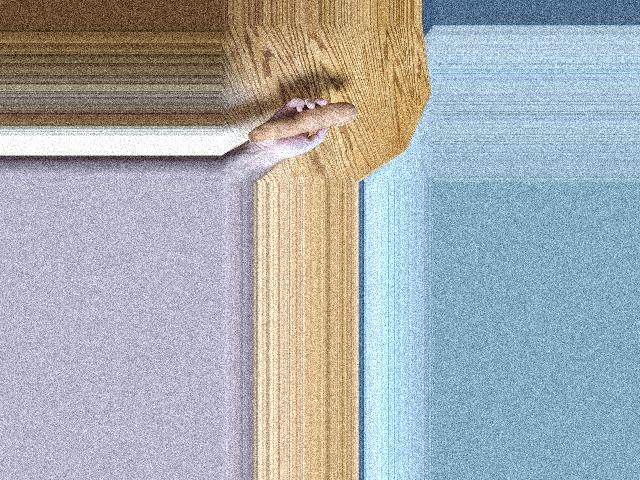sweet_potato: (252, 100, 360, 140)
